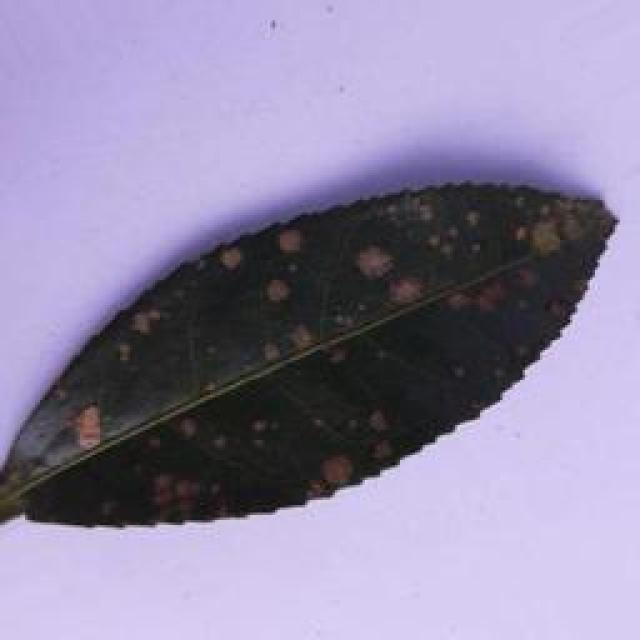Algal Leaf Spot: (0, 186, 613, 543)
